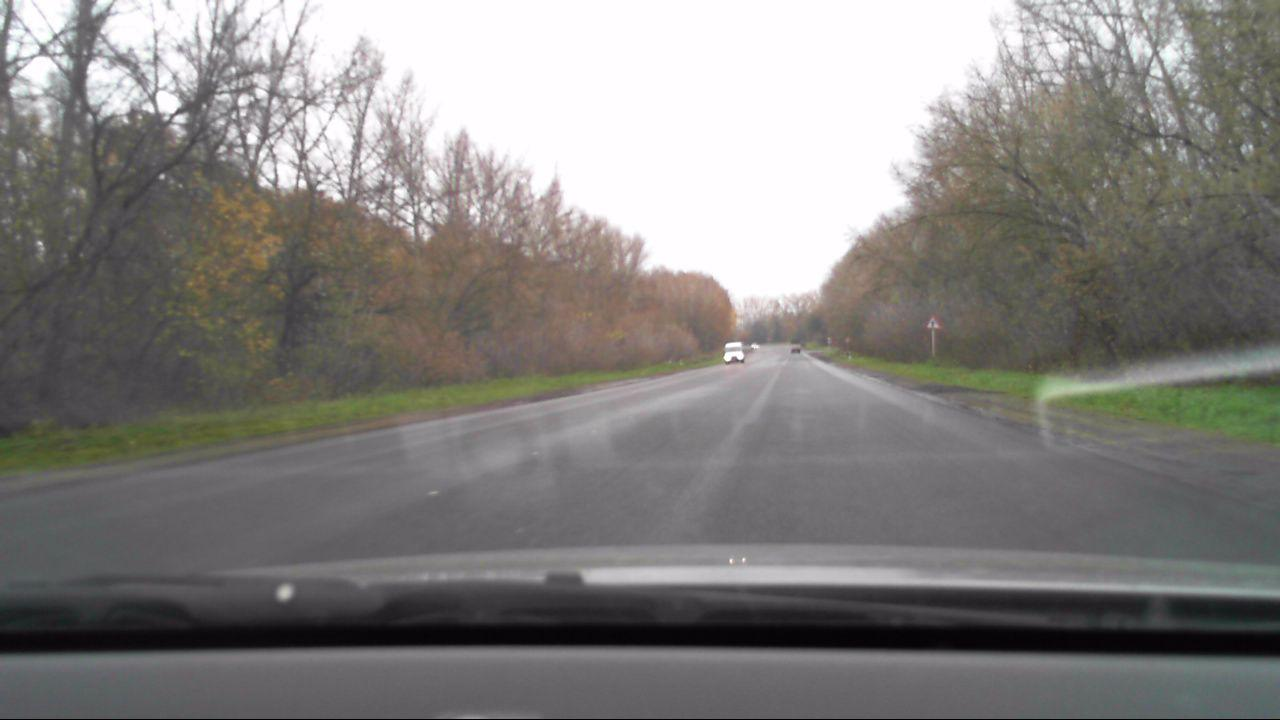2_3_1: (923, 313, 942, 330)
